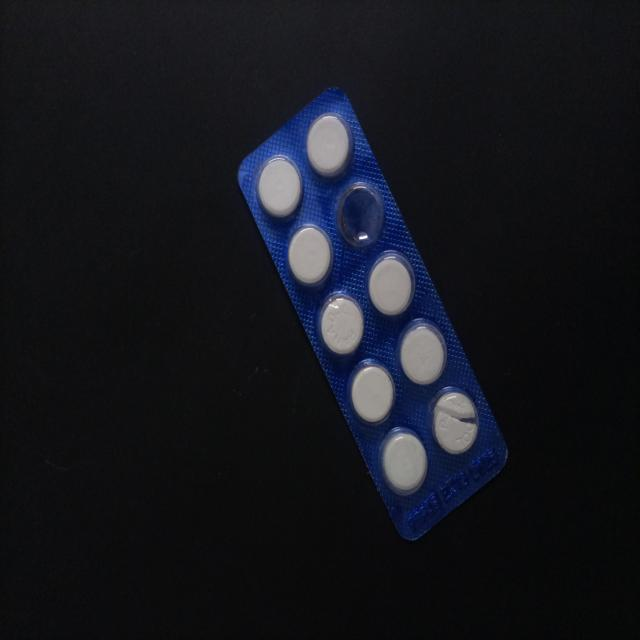defect: (427, 382, 484, 460), (335, 184, 389, 252)
